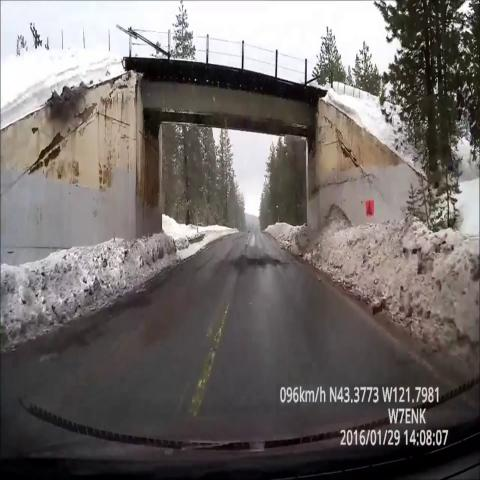pothole: (222, 245, 286, 282)
